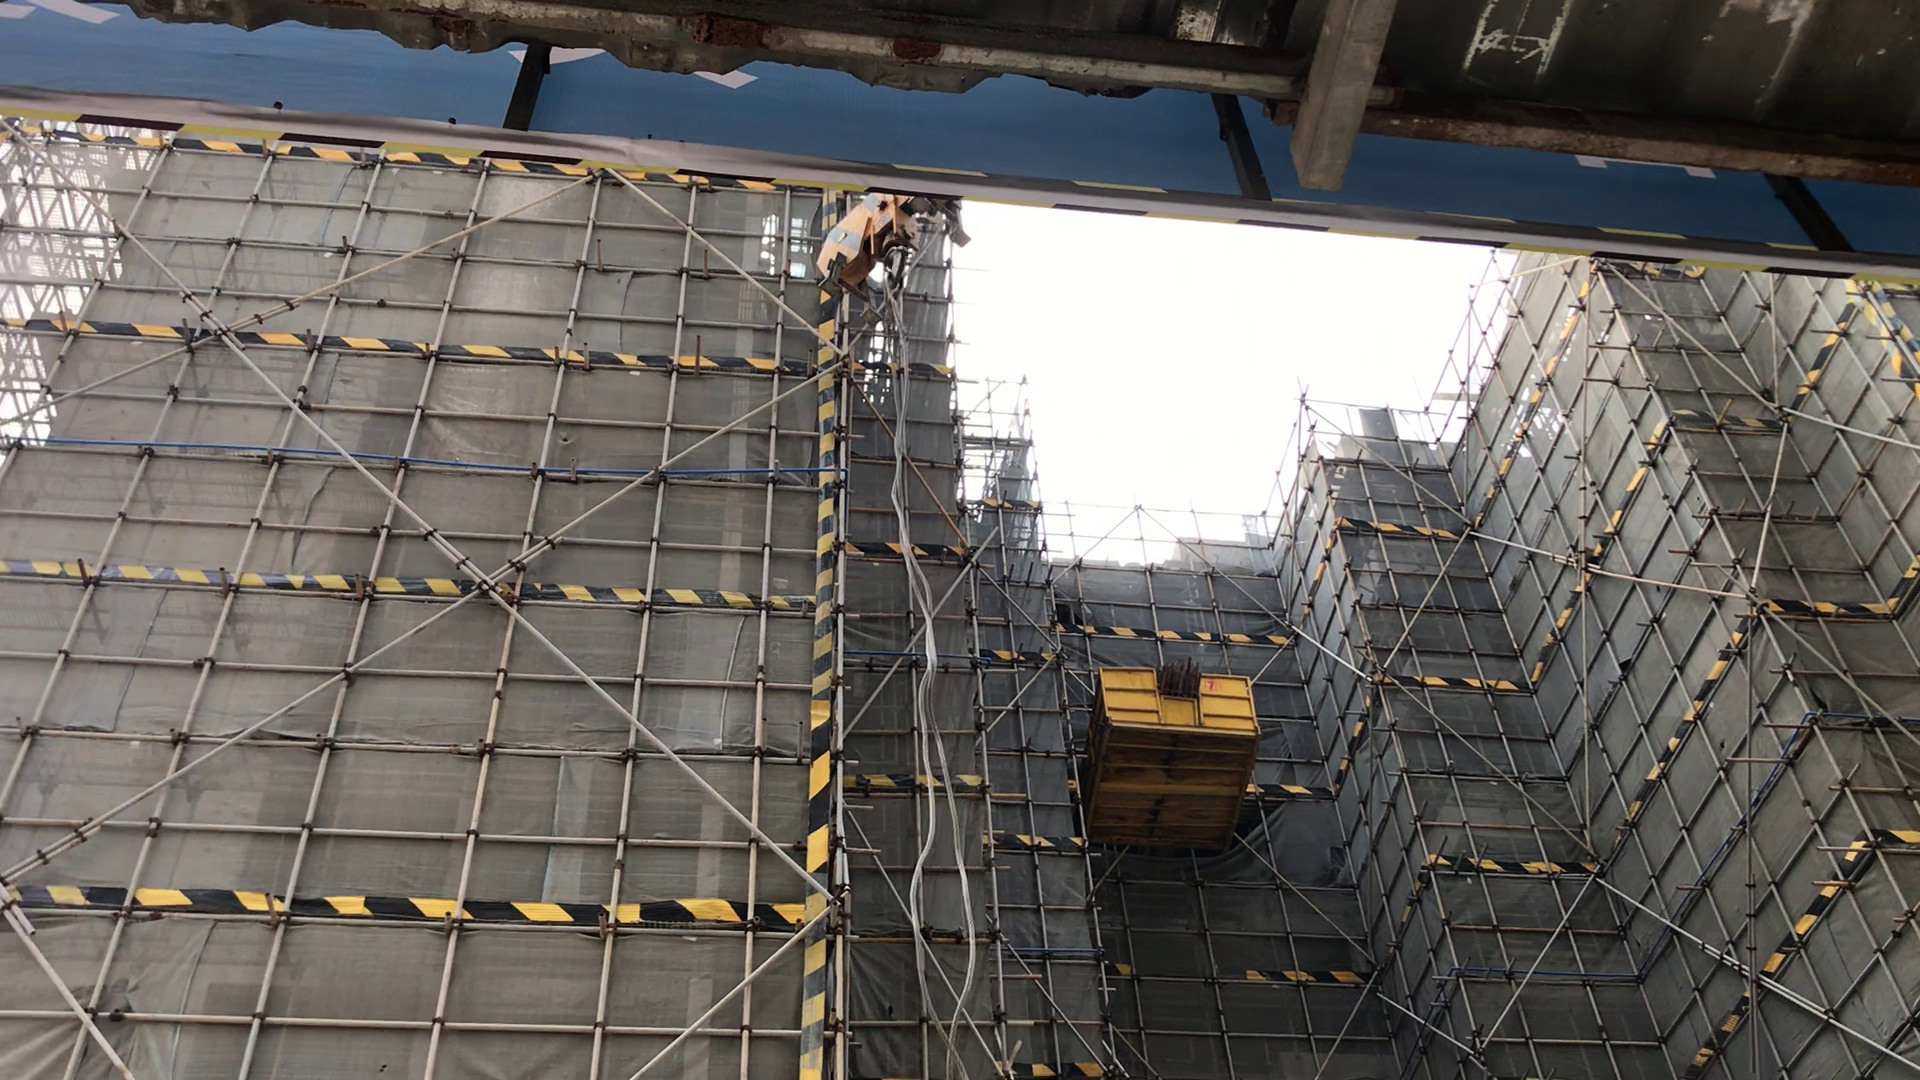hook: (787, 185, 963, 287)
